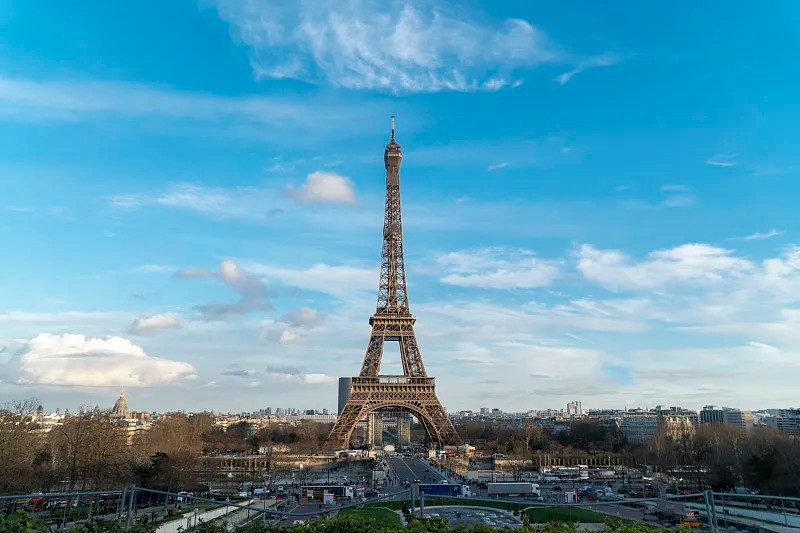Eiffel: (320, 115, 463, 456)
